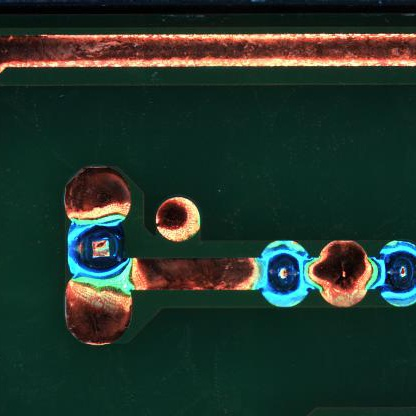spot: (65, 215, 132, 284), (259, 239, 310, 310), (378, 235, 416, 311)
